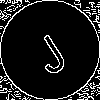J: (25, 25, 71, 77)
